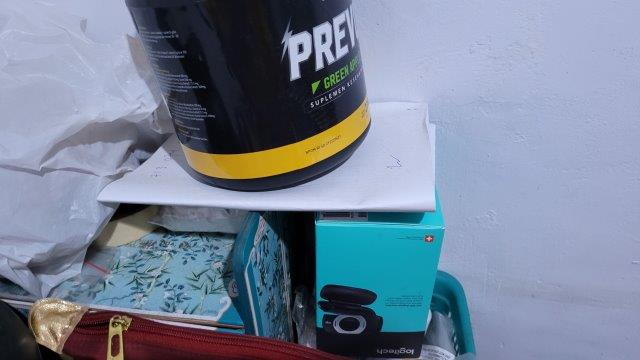kertas: (96, 104, 438, 213)
